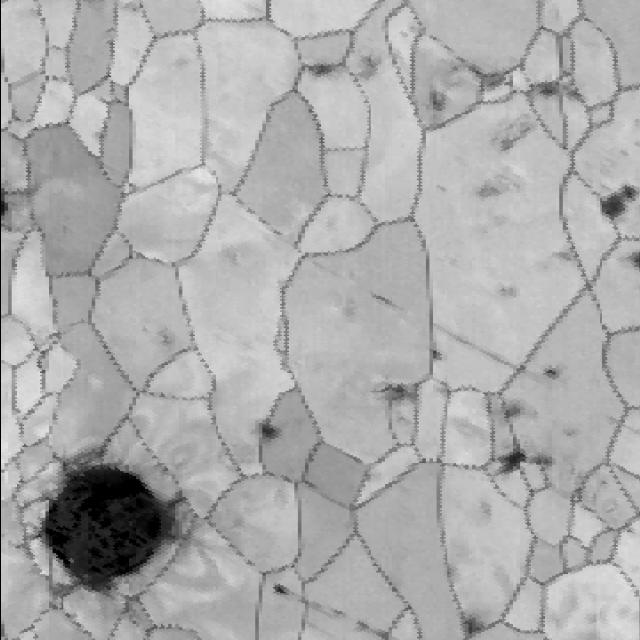good_void: (40, 445, 191, 603), (585, 184, 640, 230), (444, 58, 510, 96), (484, 111, 531, 157), (480, 453, 561, 477), (377, 370, 418, 408), (305, 54, 346, 88), (478, 170, 522, 201), (419, 83, 448, 123), (271, 580, 309, 608), (253, 415, 280, 454), (495, 398, 537, 422), (140, 326, 179, 349), (454, 612, 486, 640), (369, 292, 403, 312), (527, 77, 560, 97), (498, 281, 520, 299), (419, 350, 440, 368), (554, 249, 579, 264), (626, 249, 640, 273), (539, 370, 561, 378)
